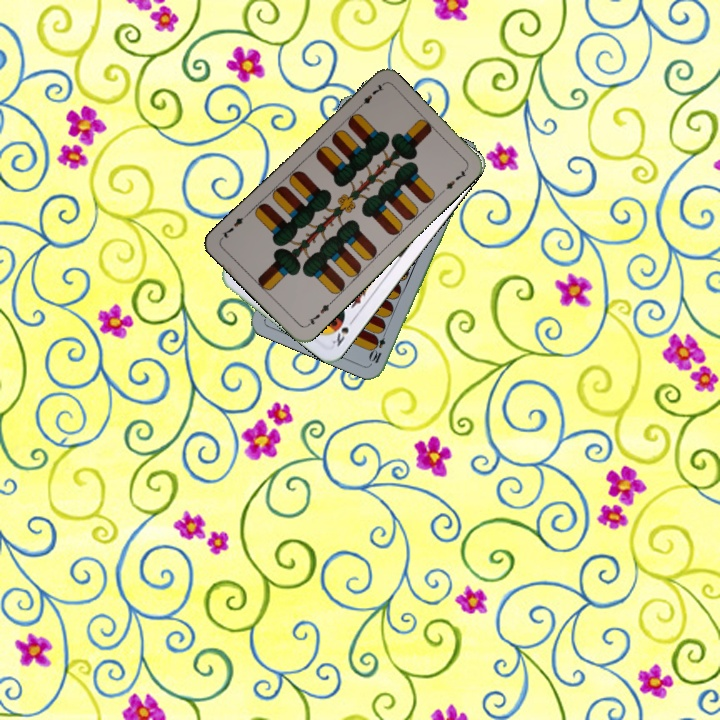E10: (366, 326, 389, 366)
E7: (353, 80, 386, 112), (303, 297, 335, 329)
SK: (328, 314, 358, 349)
